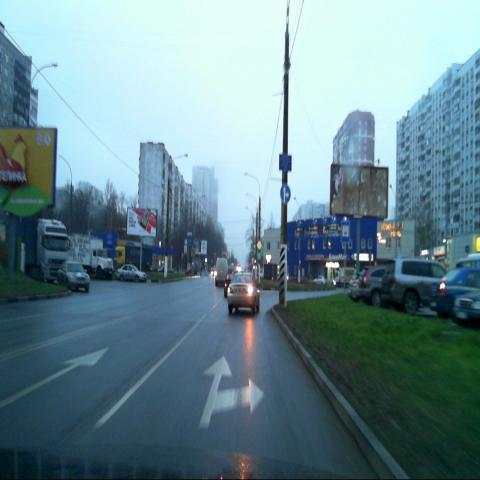4_1_4: (280, 184, 290, 203)
5_18: (341, 220, 351, 243)
